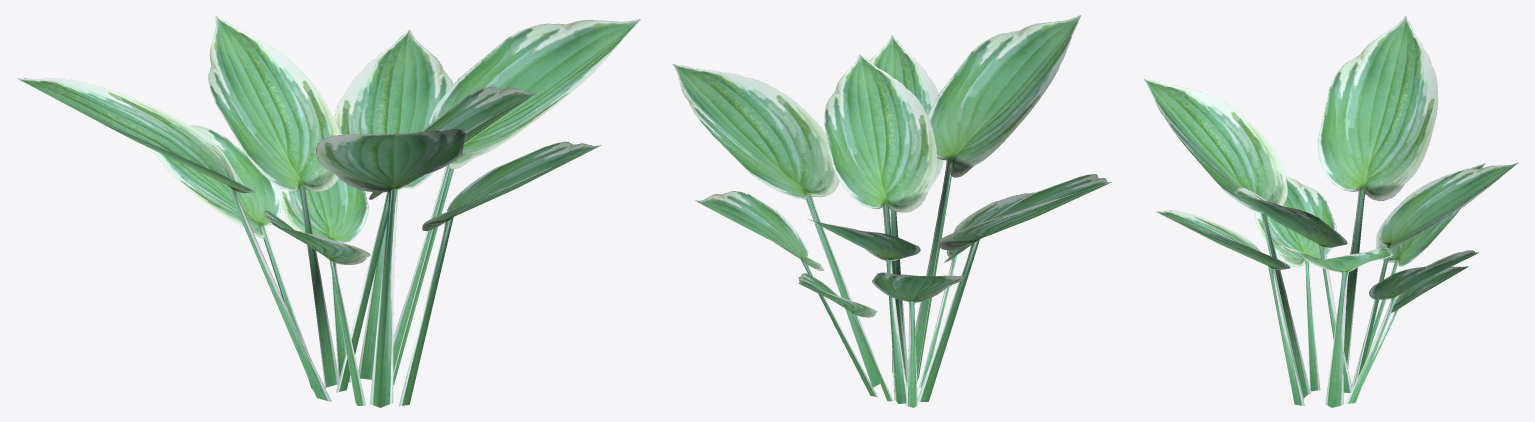
File: plant_small_wg_03J.fbx
3 views of the same model, side by side, from view 1: azimuth 30°, elevation 25°; view 2: azimuth 150°, elevation 25°; view 3: azimuth 270°, elevation 25° (orthographic). The views are drawn at different scales.
Visible parts, largest first — view 1: plant_small_wg_03J; view 2: plant_small_wg_03J; view 3: plant_small_wg_03J.
Part boxes in pixels (box(x1,y1,x2,y2)): plant_small_wg_03J: box(17, 16, 640, 407); plant_small_wg_03J: box(672, 15, 1111, 407); plant_small_wg_03J: box(1144, 16, 1518, 407).
Bounding box in the file's own units: 64.38 × 39.94 × 48.03.
